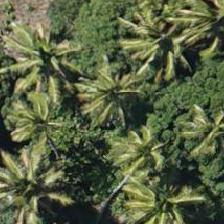coconut_tree: (93, 104, 183, 194), (115, 0, 205, 87), (0, 1, 80, 91), (115, 155, 205, 223), (161, 80, 223, 170), (0, 139, 65, 223)
